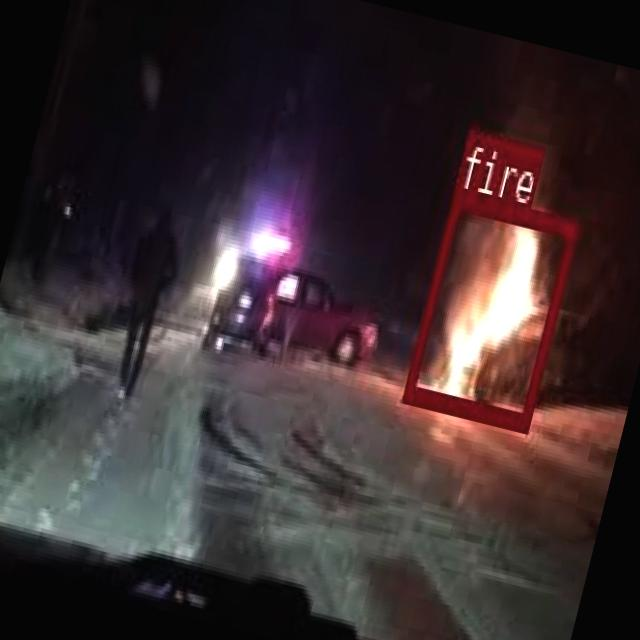fire: (402, 188, 578, 427)
